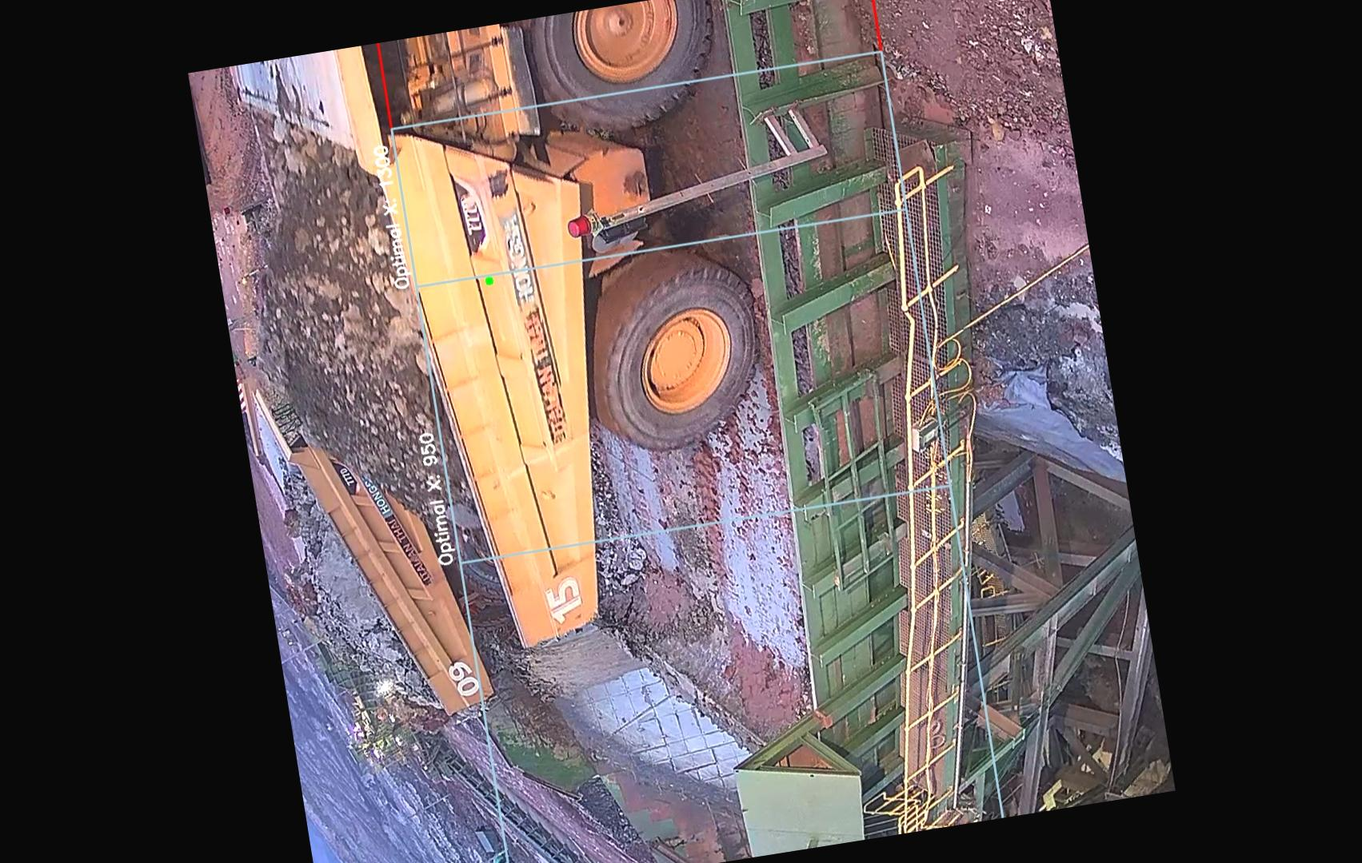company: (490, 201, 571, 455)
full_load: (230, 134, 450, 554)
mining_truck: (210, 0, 814, 687)
tail_number: (537, 569, 593, 630)
truck_size: (449, 185, 491, 245)
